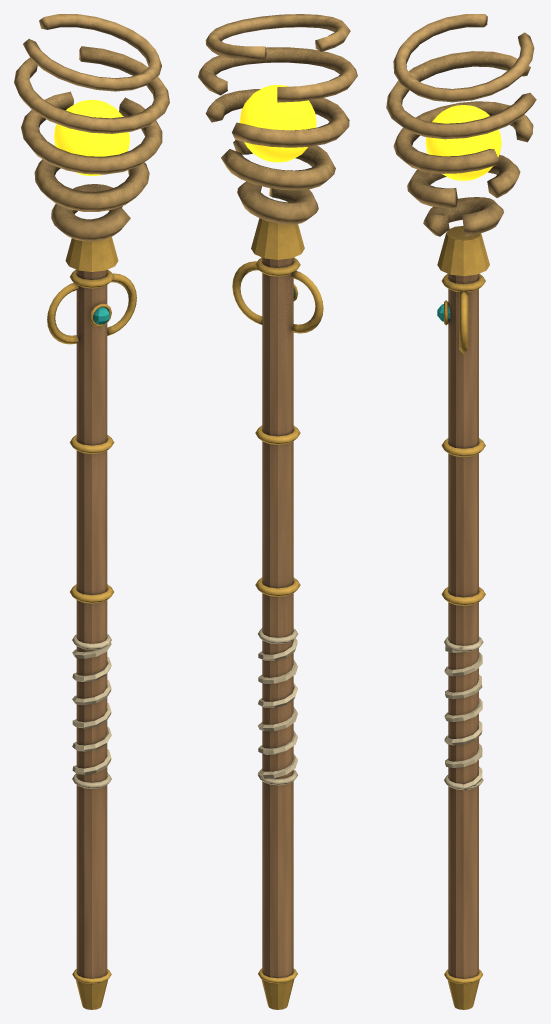
The model's file is 02_desert_magic.fbx.
3 renders of one model, left to right at view 1: azimuth 30°, elevation 25°; view 2: azimuth 150°, elevation 25°; view 3: azimuth 270°, elevation 25°, orthographic. The views are drawn at different scales.
Parts seen in each view (by area): view 1: Weapon; view 2: Weapon; view 3: Weapon.
Boxes of the visible parts, x1,y1,x2,y2 form: Weapon: (14,14,169,1009); Weapon: (198,14,357,1009); Weapon: (386,14,536,1009).
Bounding box in the file's own units: 24.52 × 168 × 23.71.
Materials: 2 (1 with a texture image).
